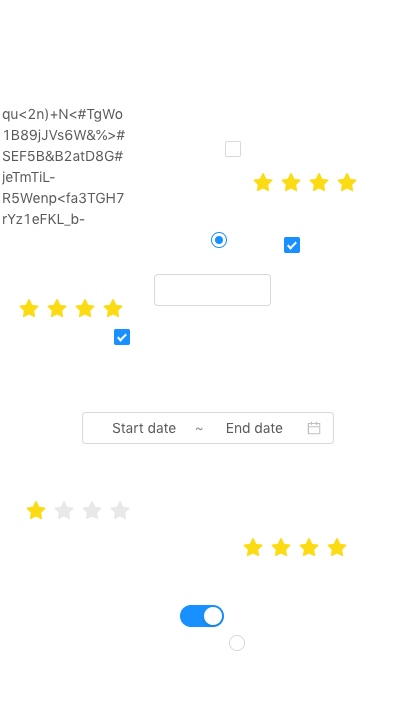Checkbox: (225, 138, 241, 159), (114, 326, 130, 347), (284, 234, 300, 255)
Input: (154, 274, 271, 306)
Radio: (211, 229, 227, 249), (229, 632, 245, 652)
RangePicker: (82, 412, 334, 444)
Rate: (243, 531, 363, 563), (253, 166, 373, 198), (26, 494, 146, 526), (19, 292, 139, 324)
Switch: (180, 604, 224, 628)
Text: (2, 103, 126, 230)
